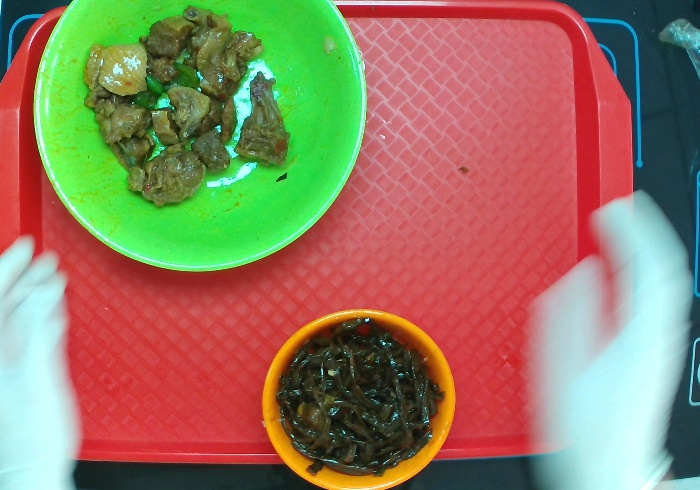YKMZ-Ju_Se_Yuan_Wan: (258, 308, 460, 490)
YKMZ-Lv_Se_Tang_Wan: (32, 1, 369, 273)
